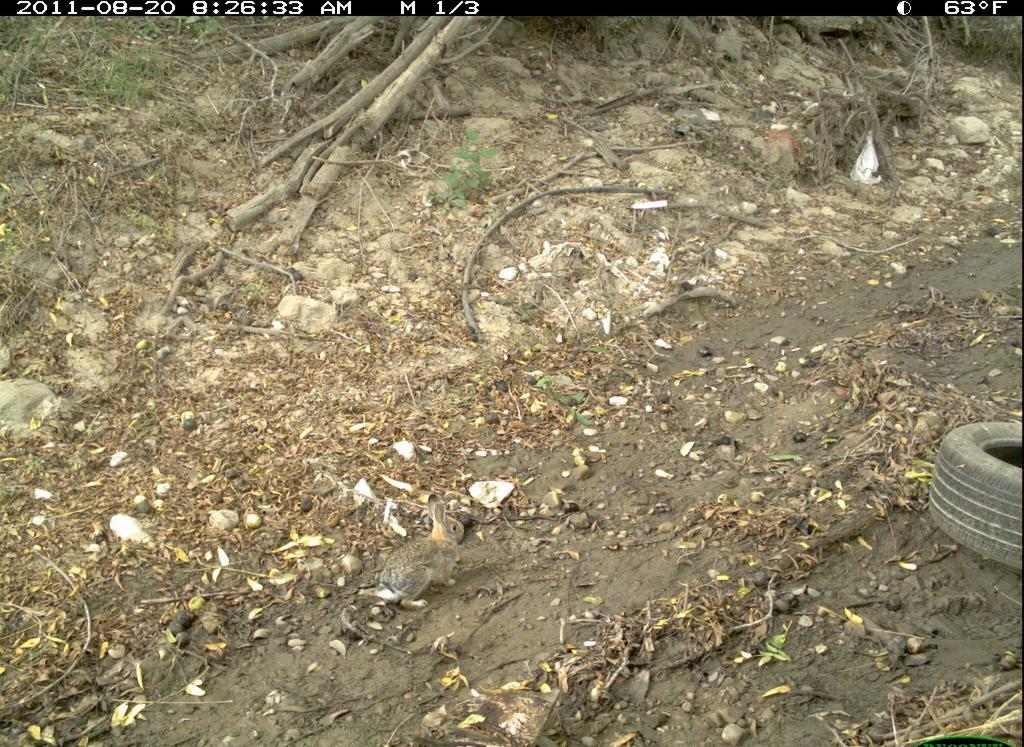rabbit: (367, 488, 470, 616)
